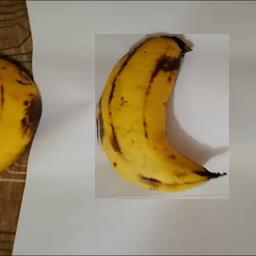Banana Semifresh: (95, 35, 229, 200)
